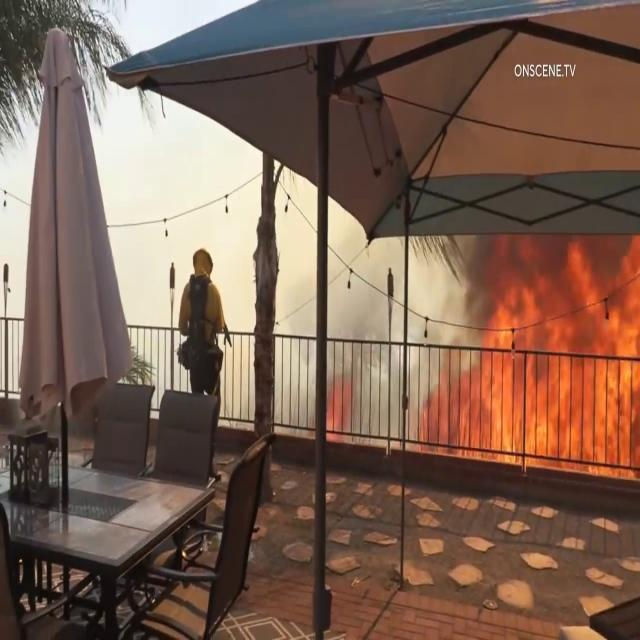Fire: (464, 234, 640, 471)
